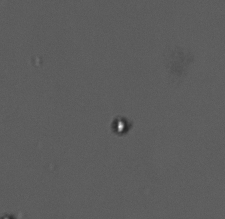Living Cell: (111, 116, 128, 136)
